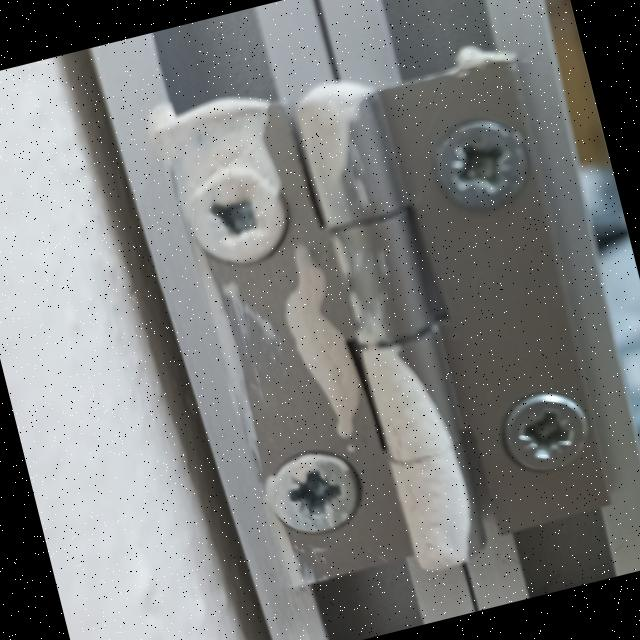Pozidriv: (490, 375, 611, 486), (424, 106, 536, 222), (260, 450, 370, 542)
